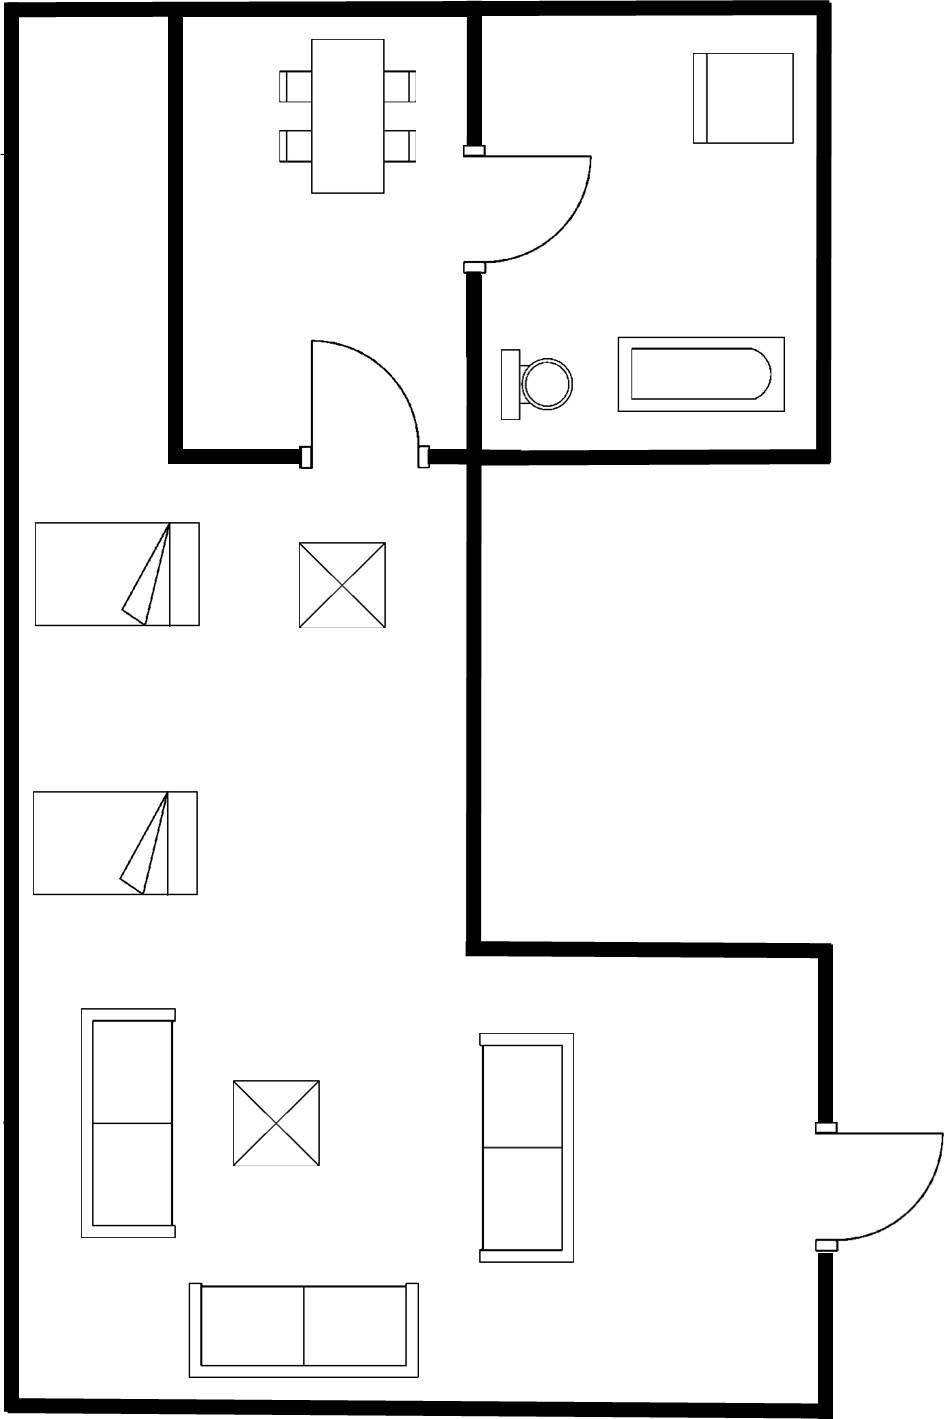bed: (26, 512, 211, 635), (28, 781, 207, 905)
dining_table: (268, 27, 423, 201)
sofa: (178, 1274, 429, 1384), (71, 1002, 186, 1242), (472, 1022, 583, 1266)
toilet: (494, 344, 576, 429)
tub: (607, 330, 791, 422)
